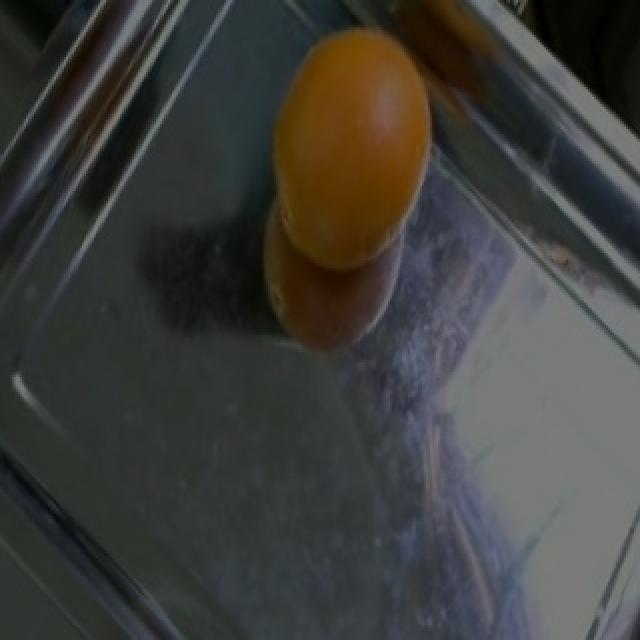Fruit: (242, 10, 462, 293)
